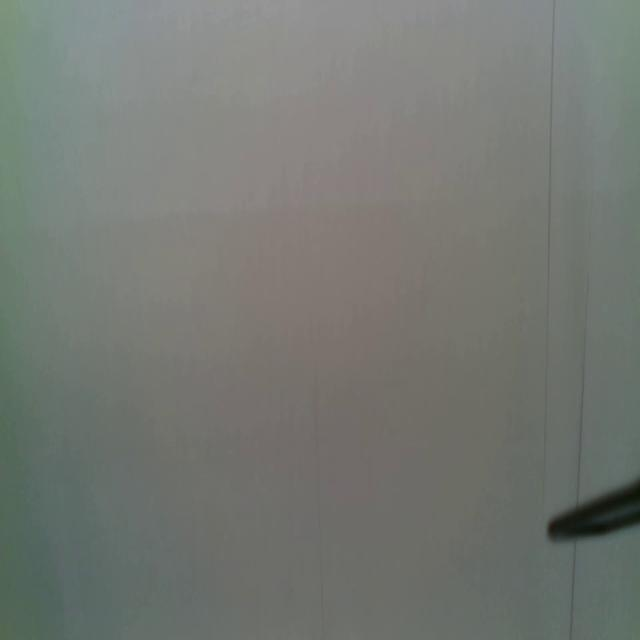crease: (540, 0, 557, 506), (574, 276, 591, 503), (312, 386, 326, 640), (568, 537, 578, 640)
